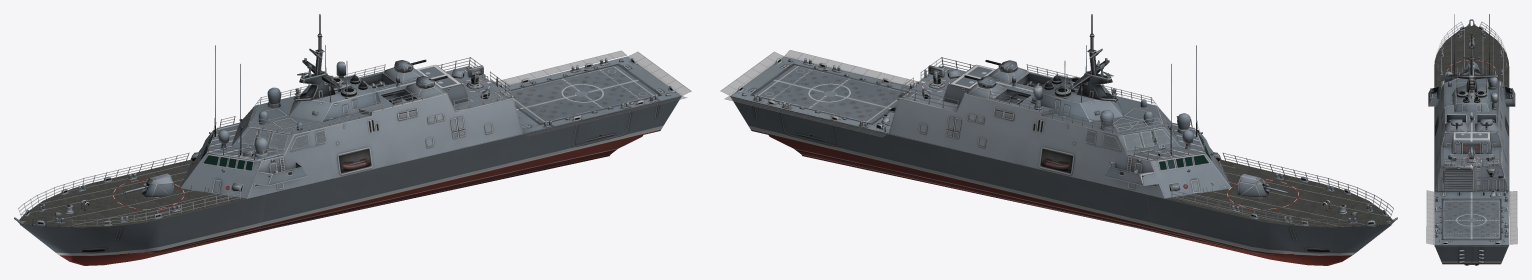
File: huweijian.glb
3 views of the same model, side by side, from view 1: azimuth 30°, elevation 25°; view 2: azimuth 150°, elevation 25°; view 3: azimuth 270°, elevation 25° (orthographic). The views are drawn at different scales.
Visible parts, largest first — view 1: ZYJ; view 2: ZYJ; view 3: ZYJ.
Part boxes in pixels (bbox=[...]): ZYJ: bbox=[14, 14, 691, 265]; ZYJ: bbox=[720, 14, 1397, 265]; ZYJ: bbox=[1426, 14, 1517, 265].
Bounding box in the file's own units: 11.79 × 3.51 × 2.07.
Materials: 3 (3 with a texture image).
